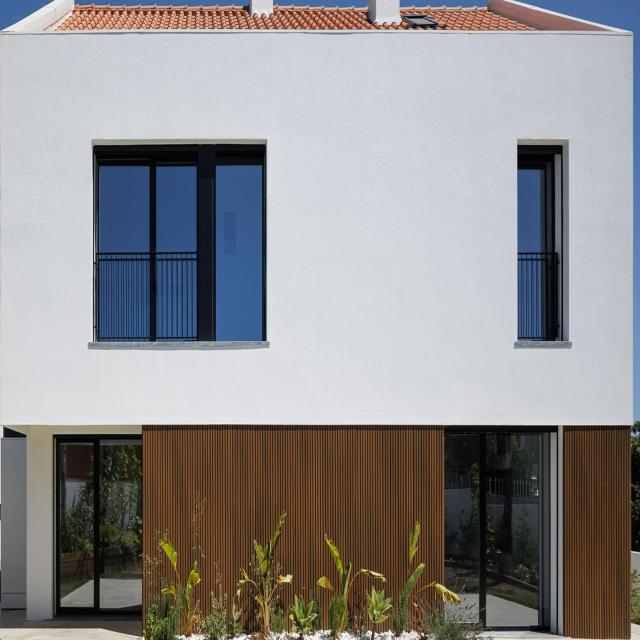door: (446, 433, 546, 627), (54, 434, 143, 621)
railing: (95, 250, 199, 338), (515, 249, 557, 339)
window: (96, 143, 265, 345), (517, 152, 556, 342)
